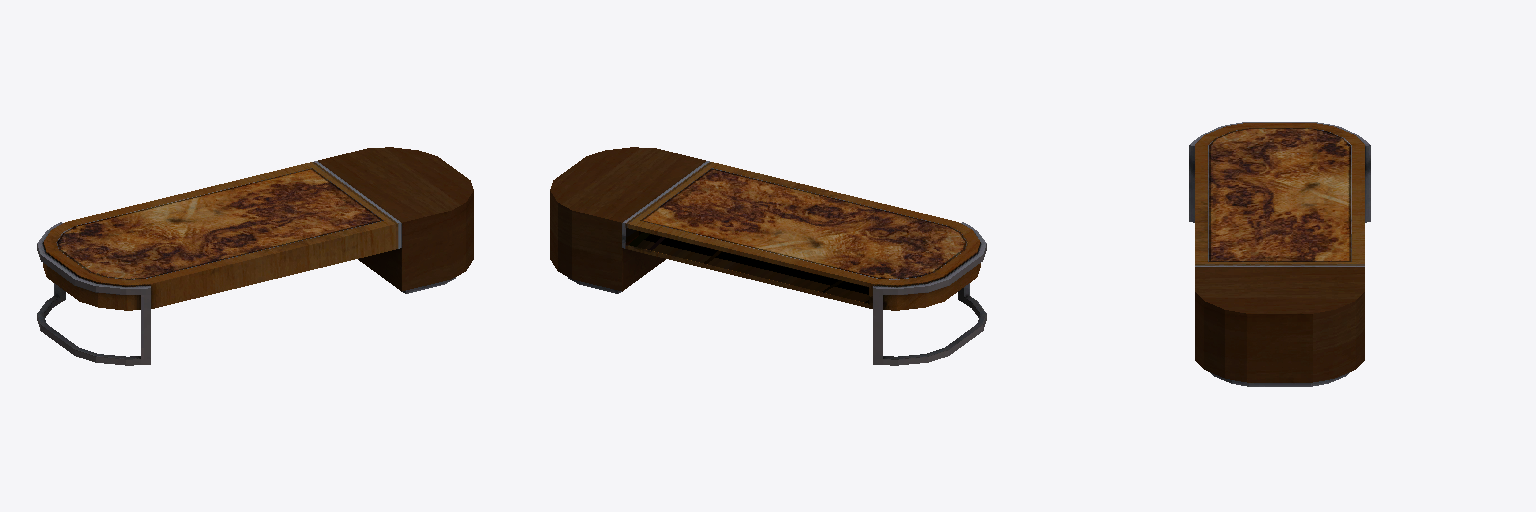
3 views of the same model, side by side, from view 1: azimuth 30°, elevation 25°; view 2: azimuth 150°, elevation 25°; view 3: azimuth 270°, elevation 25° (orthographic).
Parts seen in each view (by area): view 1: Coffee_Table; view 2: Coffee_Table; view 3: Coffee_Table.
Boxes of the visible parts, <box> form: Coffee_Table: <box>37,147,473,365</box>; Coffee_Table: <box>550,147,986,365</box>; Coffee_Table: <box>1189,122,1370,386</box>.
Bounding box in the file's own units: 256 × 48.15 × 101.
1 materials, 1 textured.